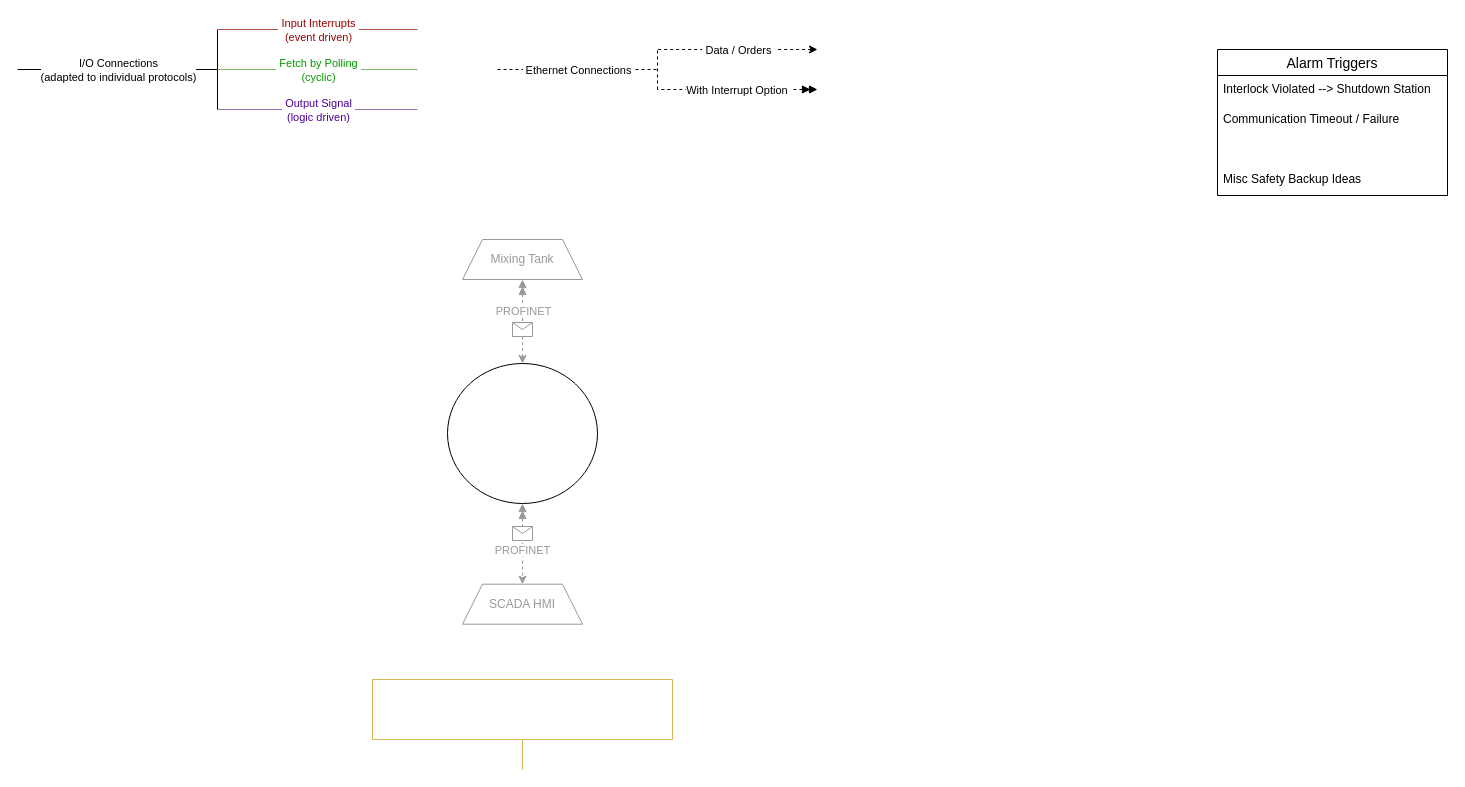
This 1465x787 diagram has some shape labels left out. The centre of each missing label's shape, as x and y in pixels:
"Allocated 10Mbps budget. For scalability, assume 1Mbps / Mixing Station" belongs at [522,724].
"Manager PLC Y LargePLC (multithreading) I/O 14x, RJ45 2x" belongs at [522,433].
